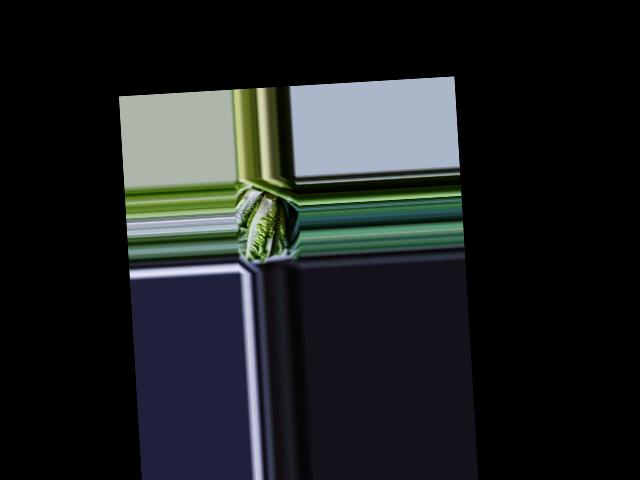lettuce: (241, 191, 288, 263)
